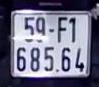1: (68, 15, 79, 44)
4: (74, 46, 87, 73)
5: (22, 15, 36, 44), (43, 45, 56, 73)
6: (59, 46, 72, 73), (16, 45, 28, 72)
8: (29, 45, 42, 75)
9: (34, 16, 48, 43)
F: (55, 14, 68, 43)
